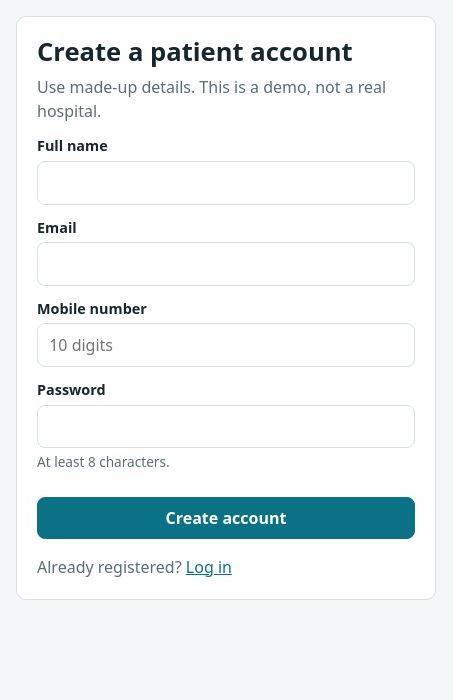
Test case: Register › rejects a phone number that is not a valid Indian mobile
Type "Asha Rao" into the field labelled "Full name" at coordinates (226, 183), box [37, 161, 415, 205]
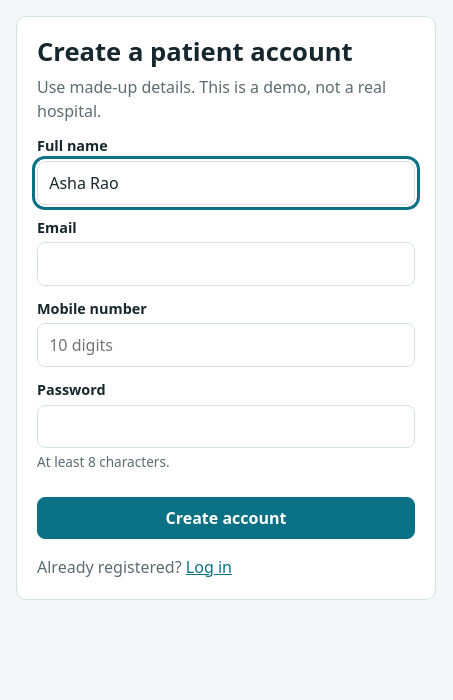
Type "asha@example.com" into the field labelled "Email" at coordinates (226, 264), box [37, 242, 415, 286]
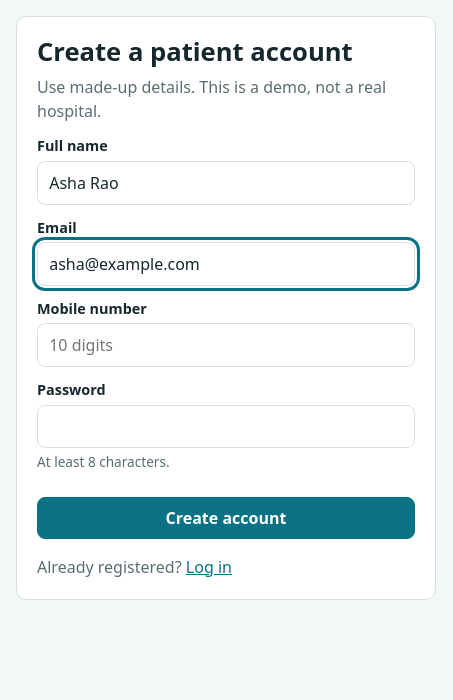
Type "12345" into the field labelled "Mobile number" at coordinates (226, 345), box [37, 323, 415, 367]
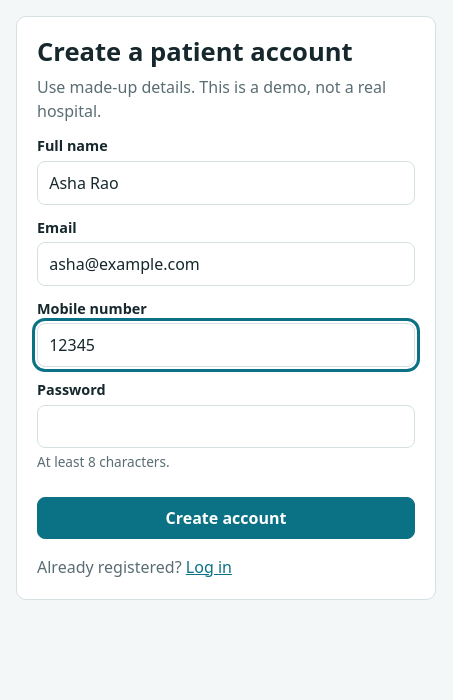
Type "long-enough-1" into the password field labelled "Password" at coordinates (226, 426), box [37, 405, 415, 448]
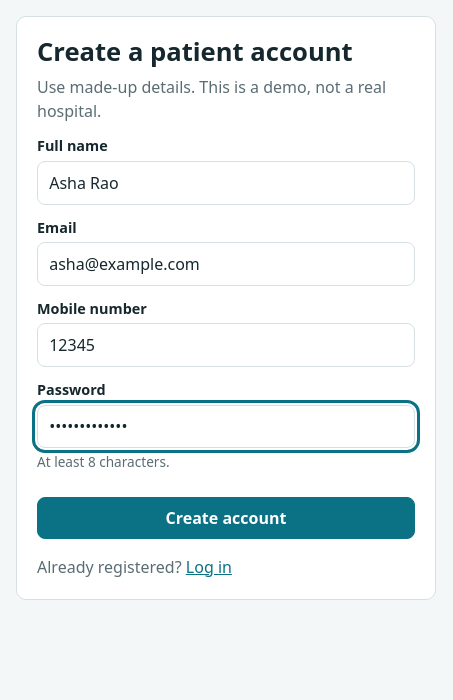
Click the button "Create account" at coordinates (226, 518), box [37, 497, 415, 539]
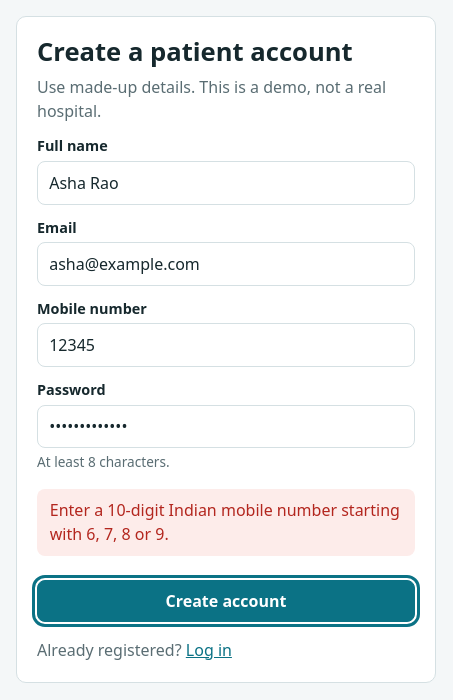
Expected: the message shows "10-digit Indian mobile number", [50, 499, 400, 545]
